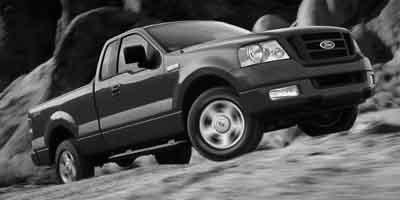car: (25, 19, 380, 185)
